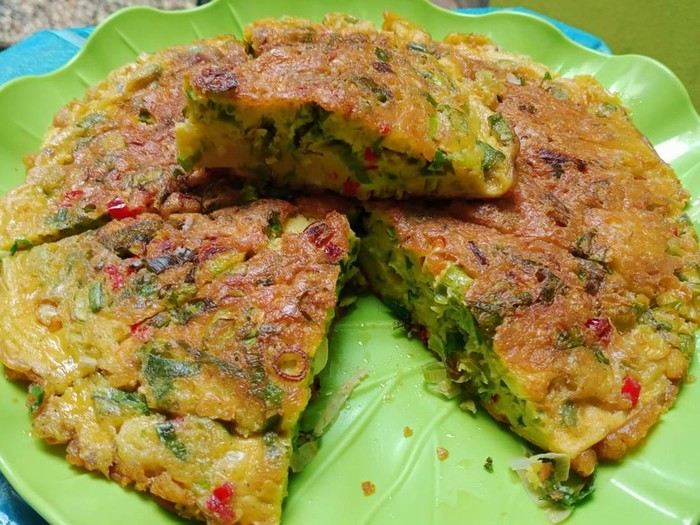Telur: (55, 194, 375, 507), (227, 51, 535, 161)
